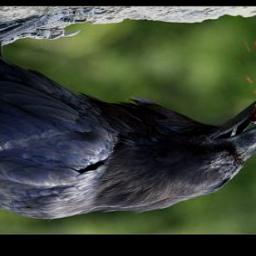Crow: (0, 7, 256, 221)
